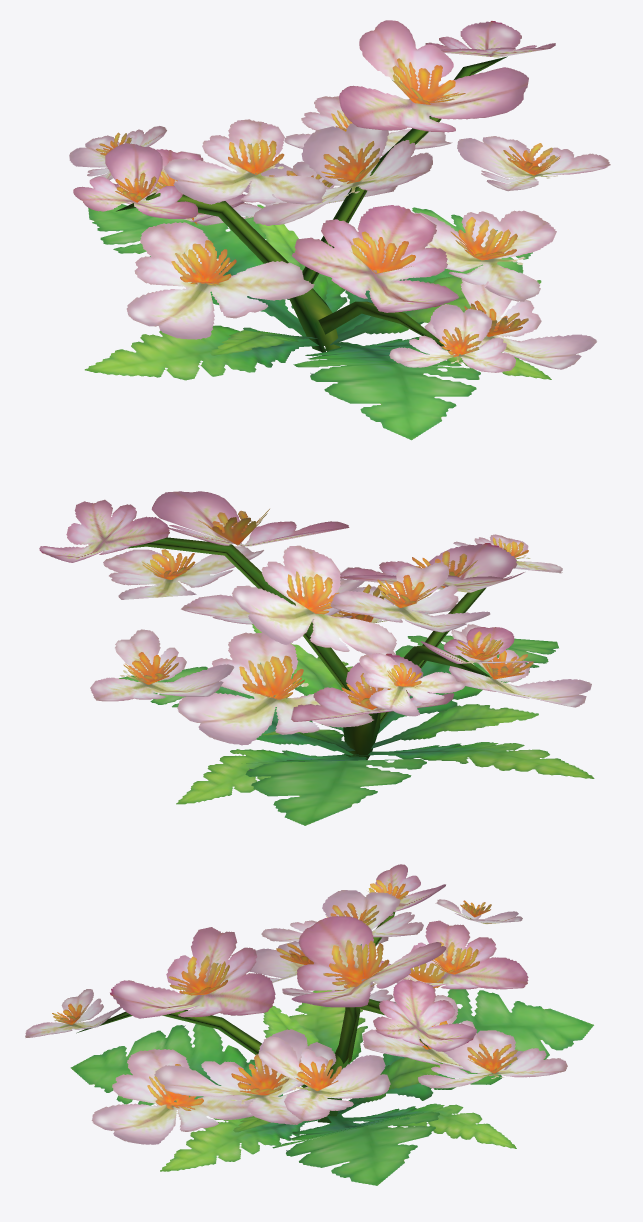
Rendered from map_1003_slzw_07.FBX.
The picture shows the model from 3 angles, top to bottom: view 1: azimuth 30°, elevation 25°; view 2: azimuth 150°, elevation 25°; view 3: azimuth 270°, elevation 25°; orthographic projection. The views are drawn at different scales.
Parts seen in each view (by area): view 1: map_1003_slzw_07; view 2: map_1003_slzw_07; view 3: map_1003_slzw_07.
Part boxes in pixels (x1=…): map_1003_slzw_07: x1=69, y1=20, x2=610, y2=440; map_1003_slzw_07: x1=39, y1=491, x2=594, y2=825; map_1003_slzw_07: x1=25, y1=864, x2=593, y2=1185.
Size of the model in its own units: 1.28 by 0.5927 by 1.41.
